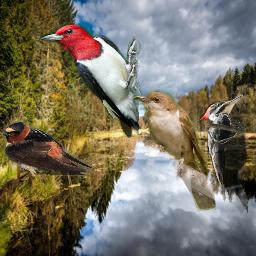Cuckoo: (131, 89, 216, 212)
Swallow: (2, 121, 95, 176)
Woodpecker: (37, 24, 145, 138), (199, 95, 248, 220)
